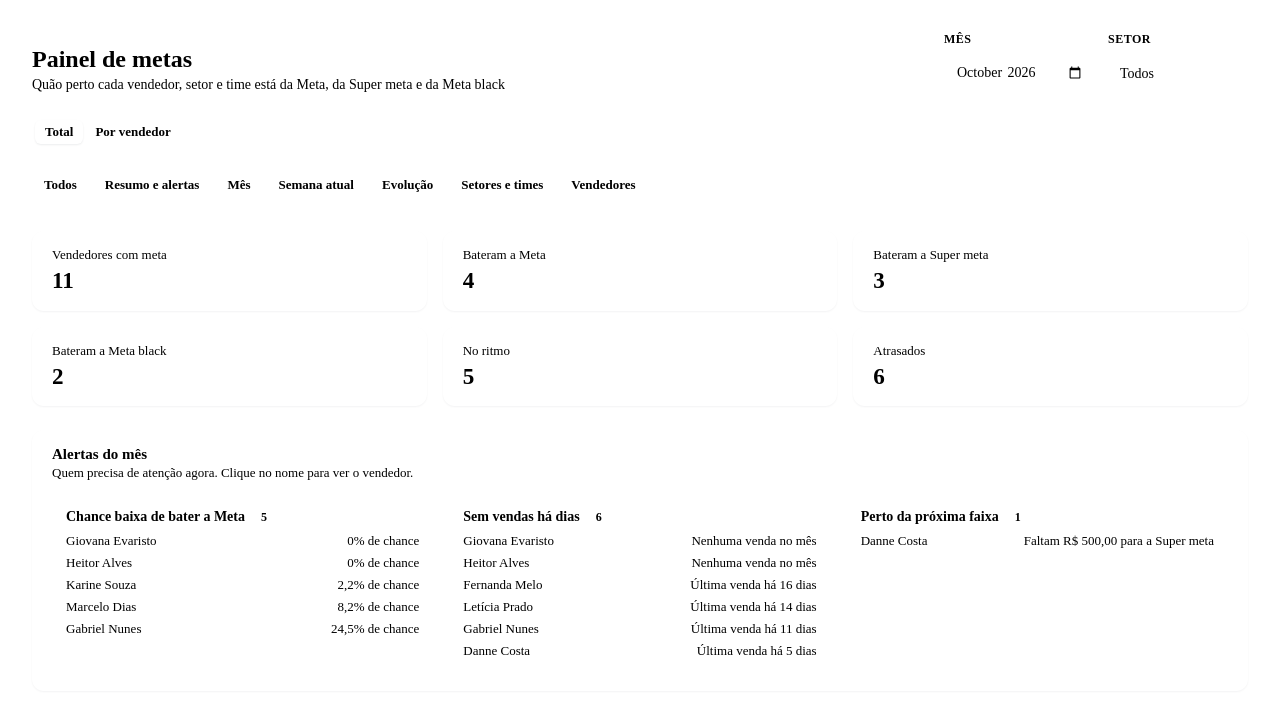
Test case: Telas de metas com os dados falsos (quarta 21/10/2026) › Metas por vendedor › na visão por vendedor as abas são as do vendedor, e trocar de visão volta para Todos
Expected: the element named "Resumo das metas" is shown, [32,231,1248,406]
Click the button "Mês" at point(239, 185), box [215,171,262,199]
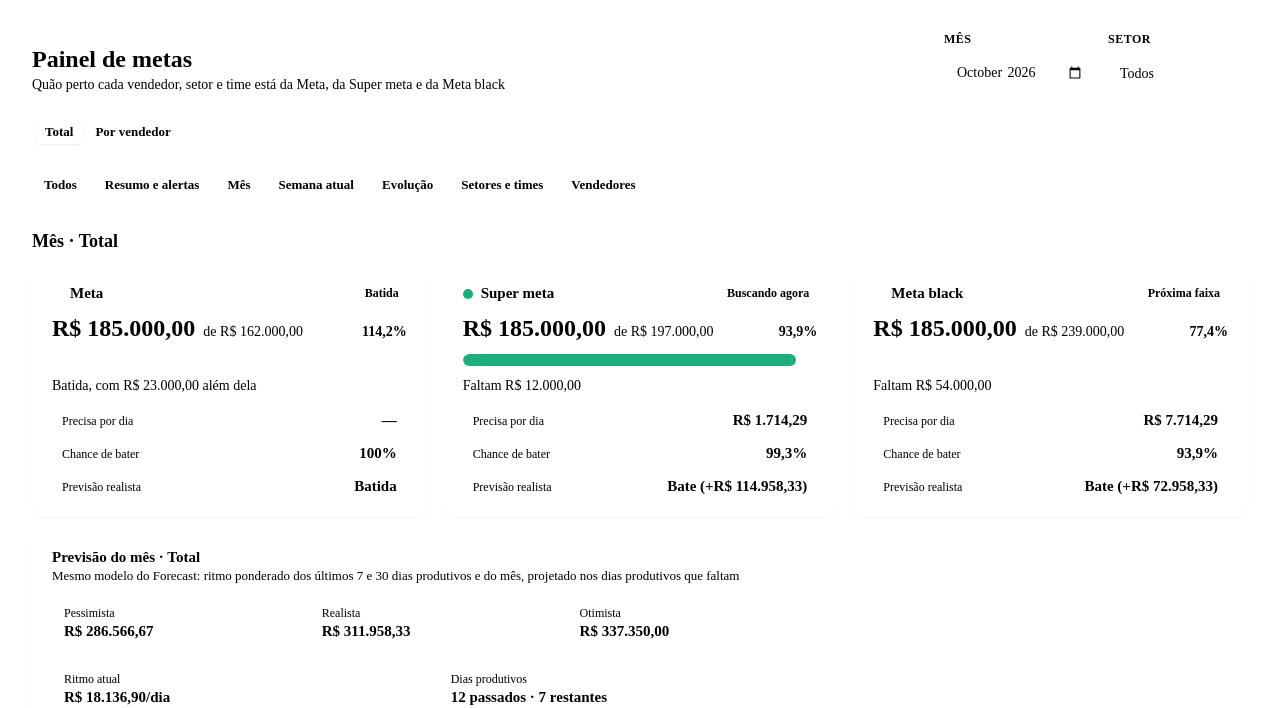
Click the button "Por vendedor" at point(133, 132), box [85,120,181,144]
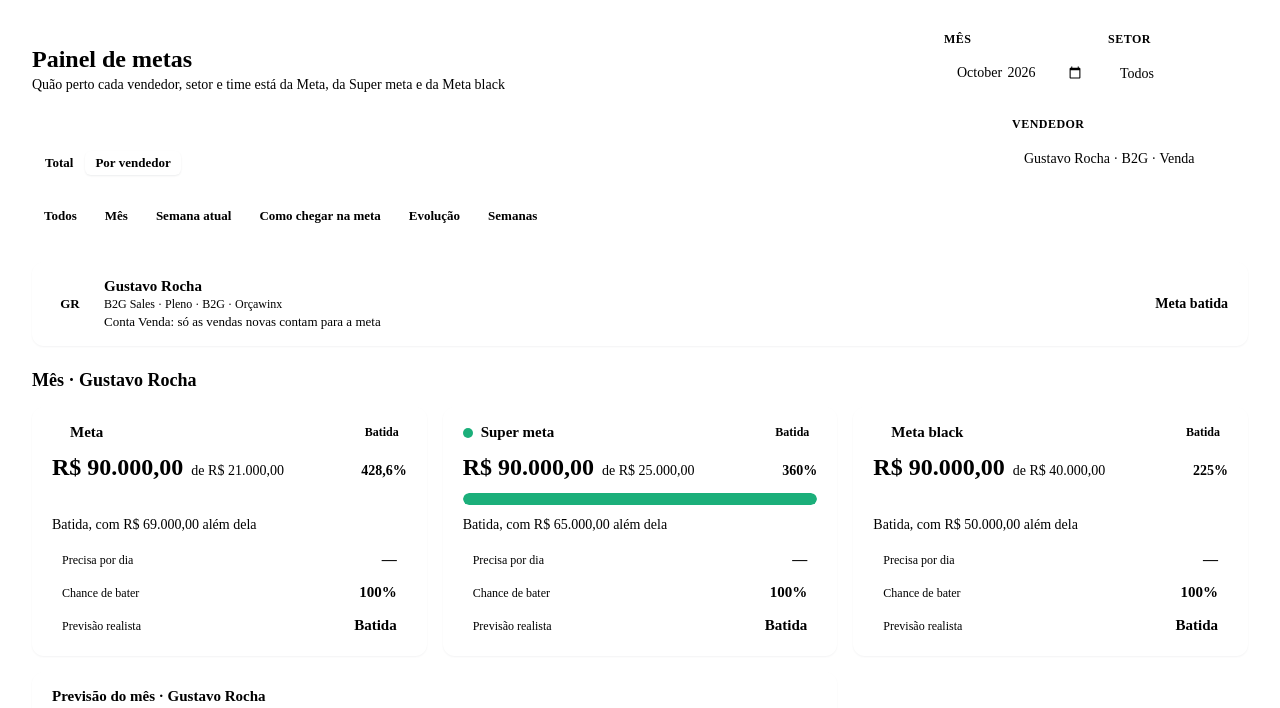
Expected: the buttons read "Todos", "Mês", "Semana atual", "Como chegar na meta", "Evolução", "Semanas", in this order
Click the button "Semanas" at point(513, 216), box [476,202,549,230]
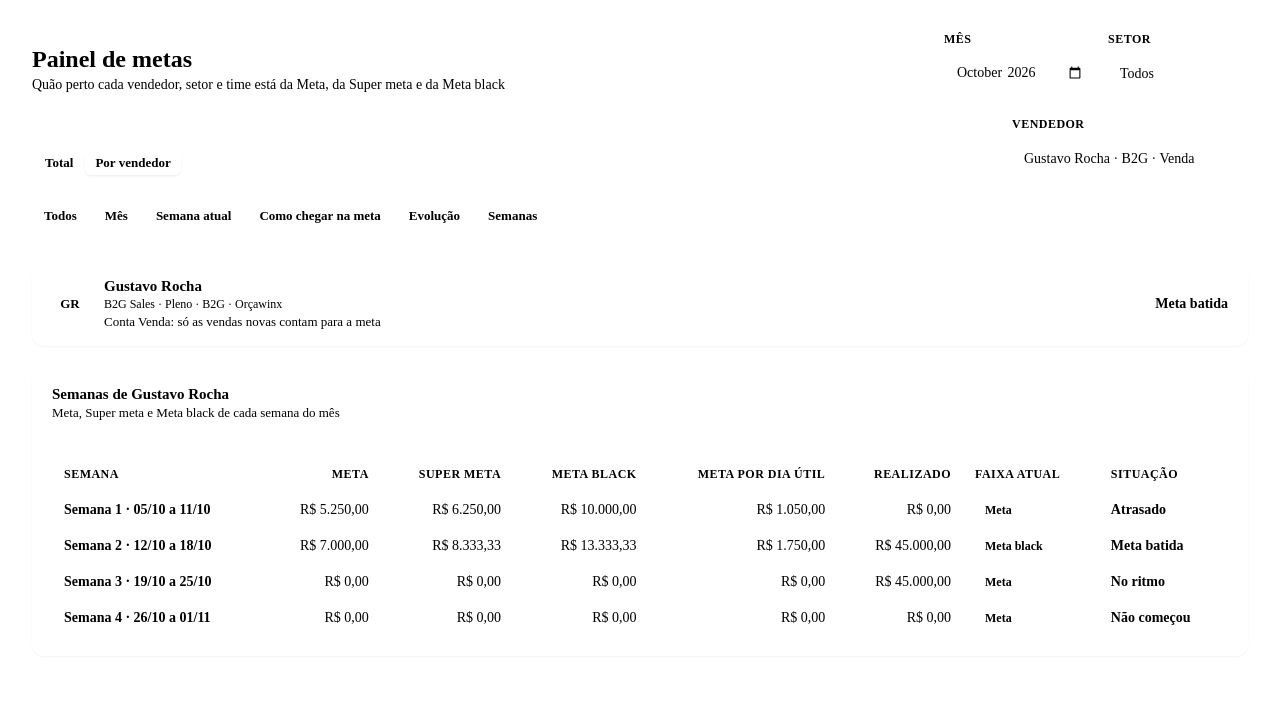
Expected: the table named "Semanas de " is shown, [52,457,1228,636]
Expected: the heading "Mês · " is gone
